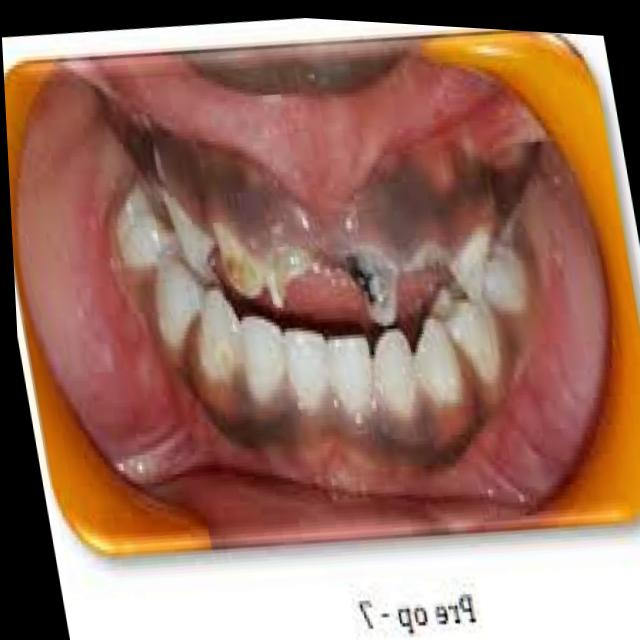cariess: (267, 241, 451, 300)
